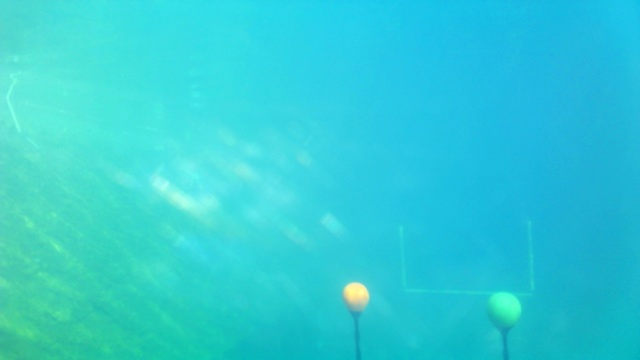buoy_green: (485, 288, 525, 337)
buoy_red: (339, 281, 369, 311)
